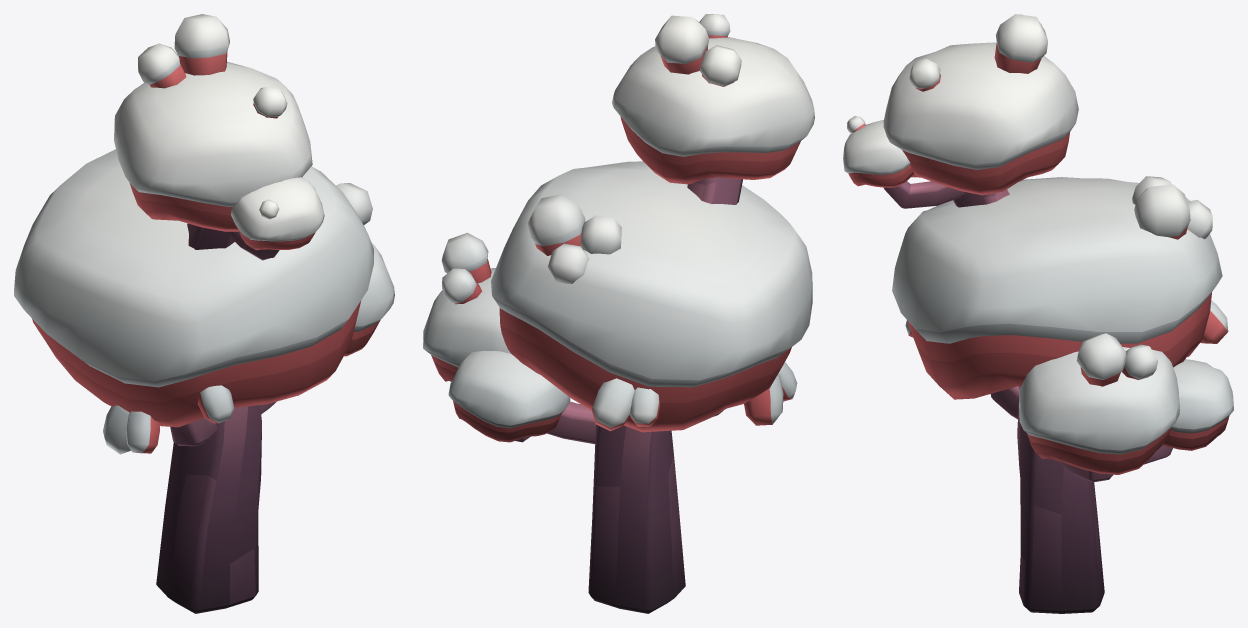
Rendered from grassland_tree_col3_7_snow.fbx.
3 renders of one model, left to right at view 1: azimuth 30°, elevation 25°; view 2: azimuth 150°, elevation 25°; view 3: azimuth 270°, elevation 25°, orthographic. The views are drawn at different scales.
Visible parts, largest first — view 1: grassland_tree_col3_7_snow; view 2: grassland_tree_col3_7_snow; view 3: grassland_tree_col3_7_snow.
Boxes of the visible parts, box(x1,y1,x2,y2) form: grassland_tree_col3_7_snow: box(14, 14, 394, 613); grassland_tree_col3_7_snow: box(423, 14, 814, 613); grassland_tree_col3_7_snow: box(843, 14, 1233, 613).
Bounding box in the file's own units: 726 × 1187 × 738.
